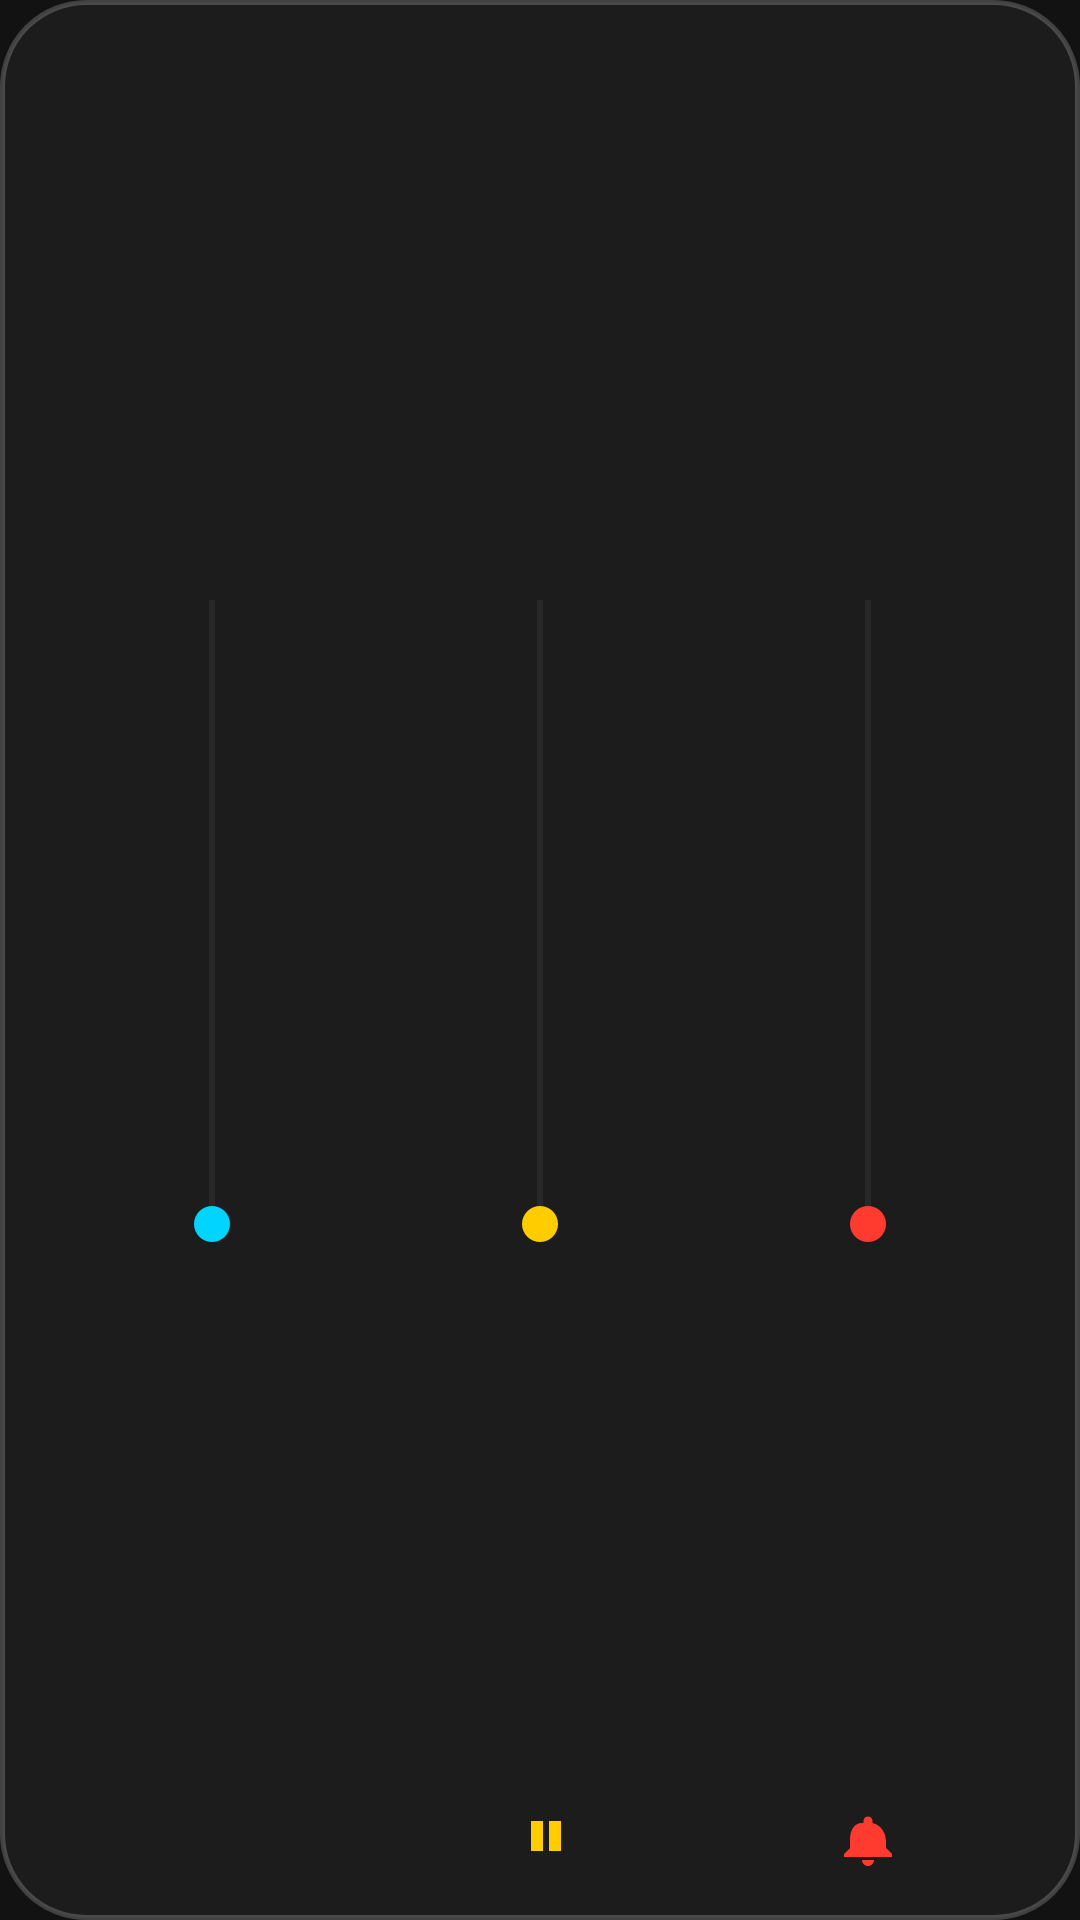

Icon bounding boxes for this 1080w x 1920h phone screenshot, format (x1, y1, x2, y2):
volume alarm: (844, 1816, 892, 1866)
